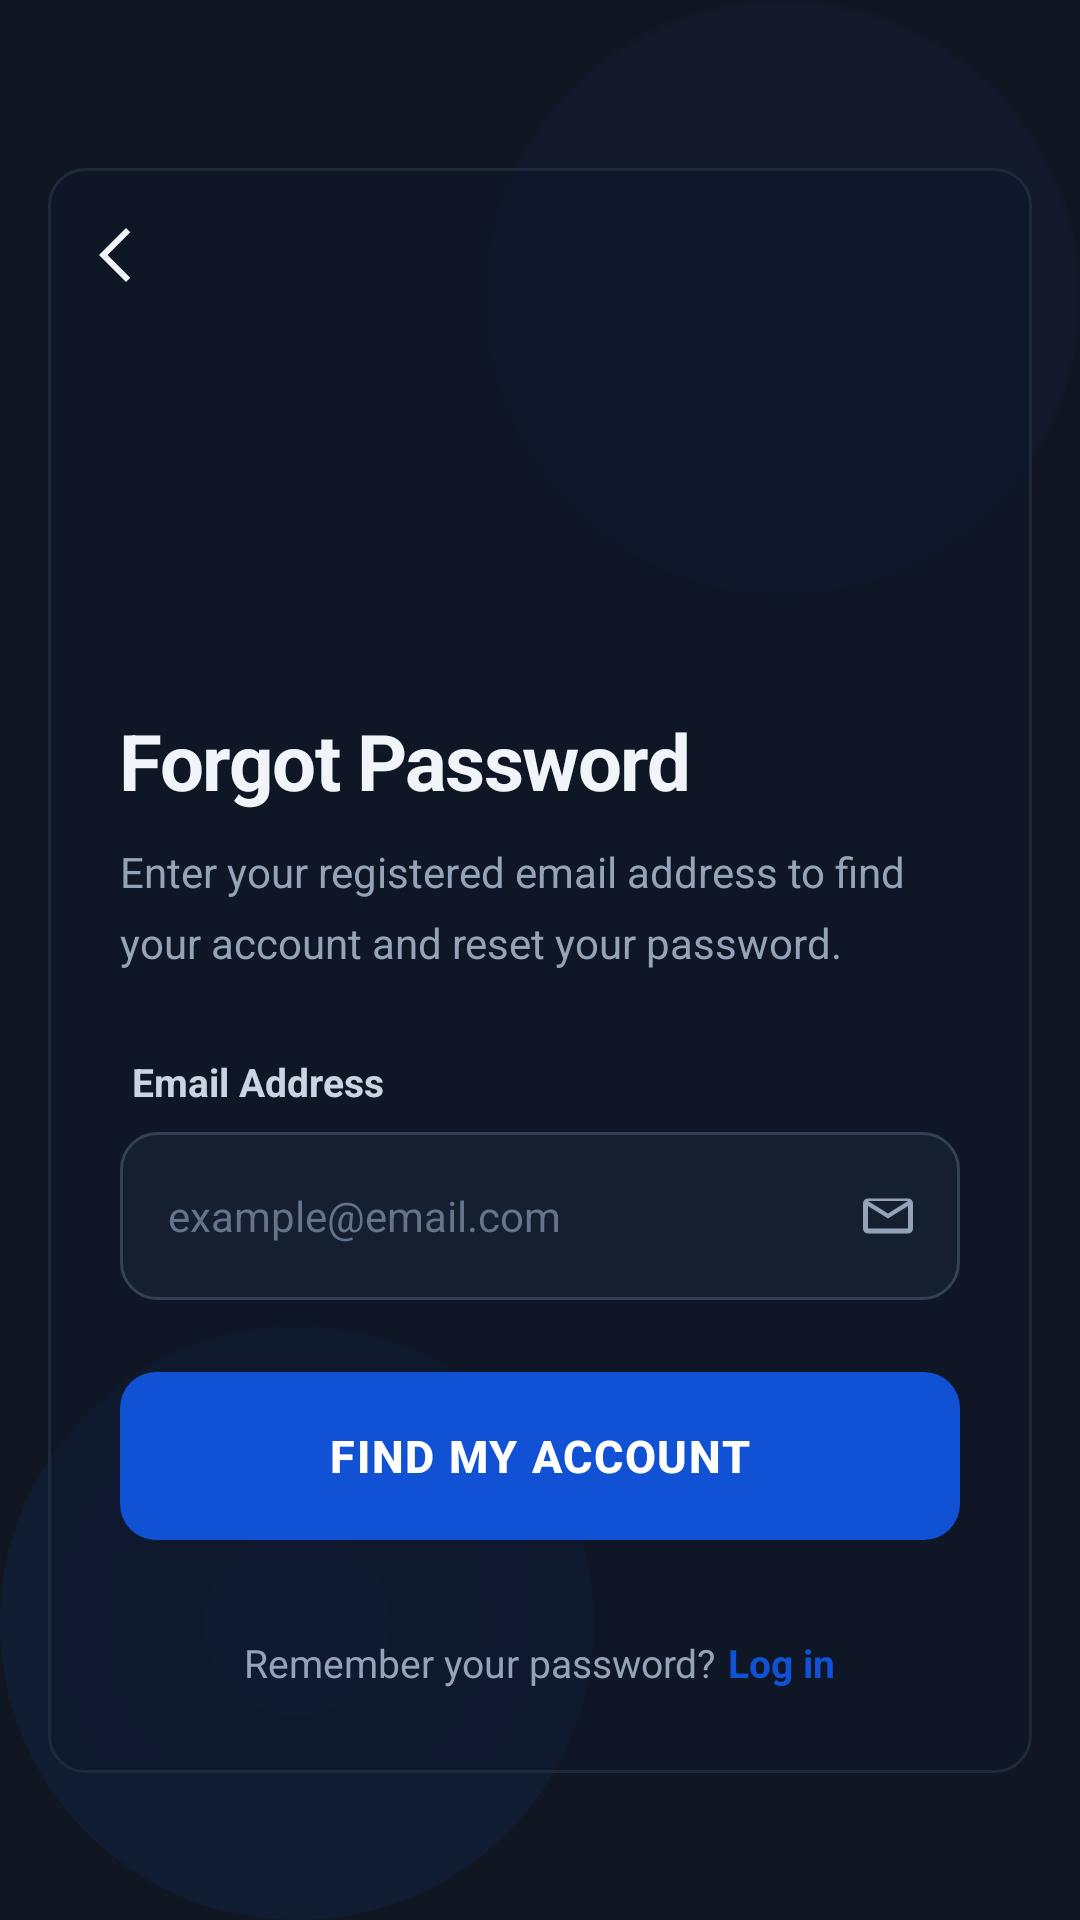

Named icons in this screenshot (1080*1920) and their bounding boxes, (x1, y1, x2, y2):
arrow back: (99, 228, 130, 282)
